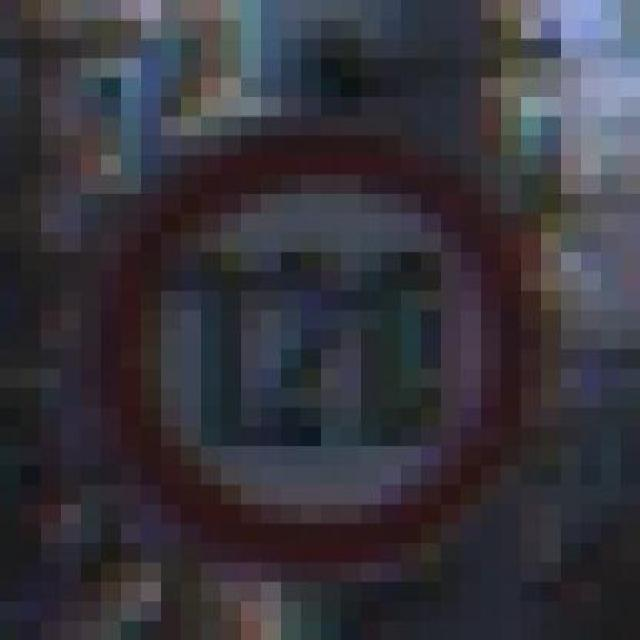forb_speed_over_120: (129, 140, 518, 555)
